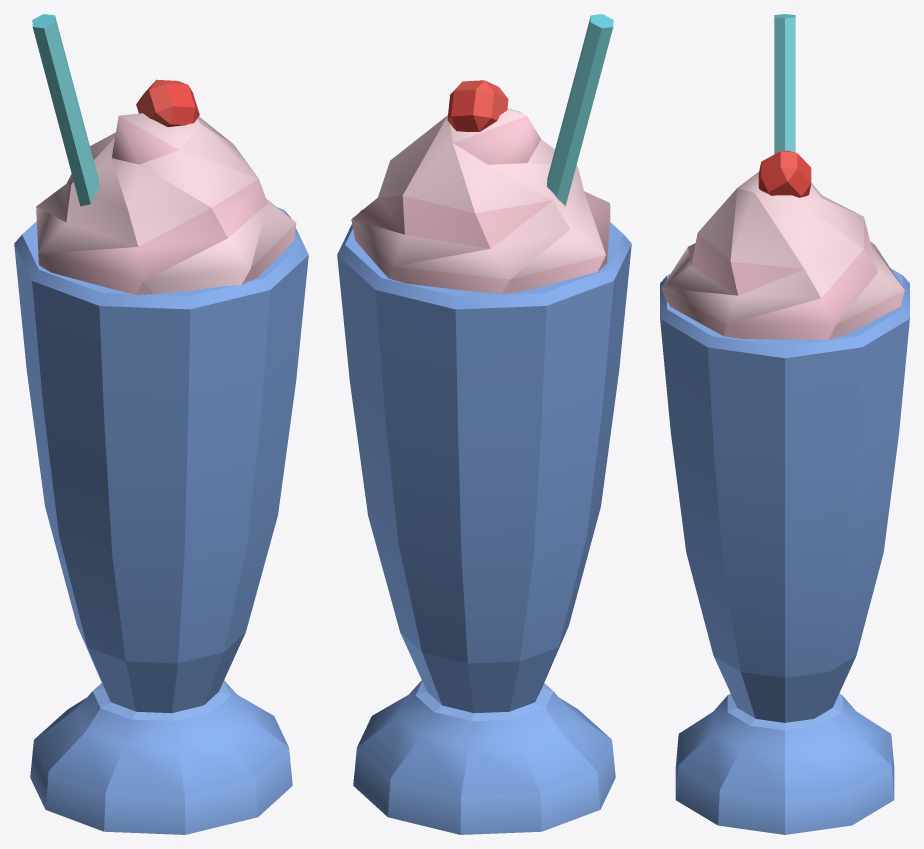
The model's file is MilkShake_Mesh.fbx.
3 renders of one model, left to right at view 1: azimuth 30°, elevation 25°; view 2: azimuth 150°, elevation 25°; view 3: azimuth 270°, elevation 25°, orthographic. The views are drawn at different scales.
Parts seen in each view (by area): view 1: MilkShake_Mesh; view 2: MilkShake_Mesh; view 3: MilkShake_Mesh.
Boxes of the visible parts, <box> form: MilkShake_Mesh: <box>14,14,308,834</box>; MilkShake_Mesh: <box>337,14,631,834</box>; MilkShake_Mesh: <box>660,14,909,834</box>.
Bounding box in the file's own units: 10.17 × 29.74 × 9.37.
Materials: 1 (1 with a texture image).
